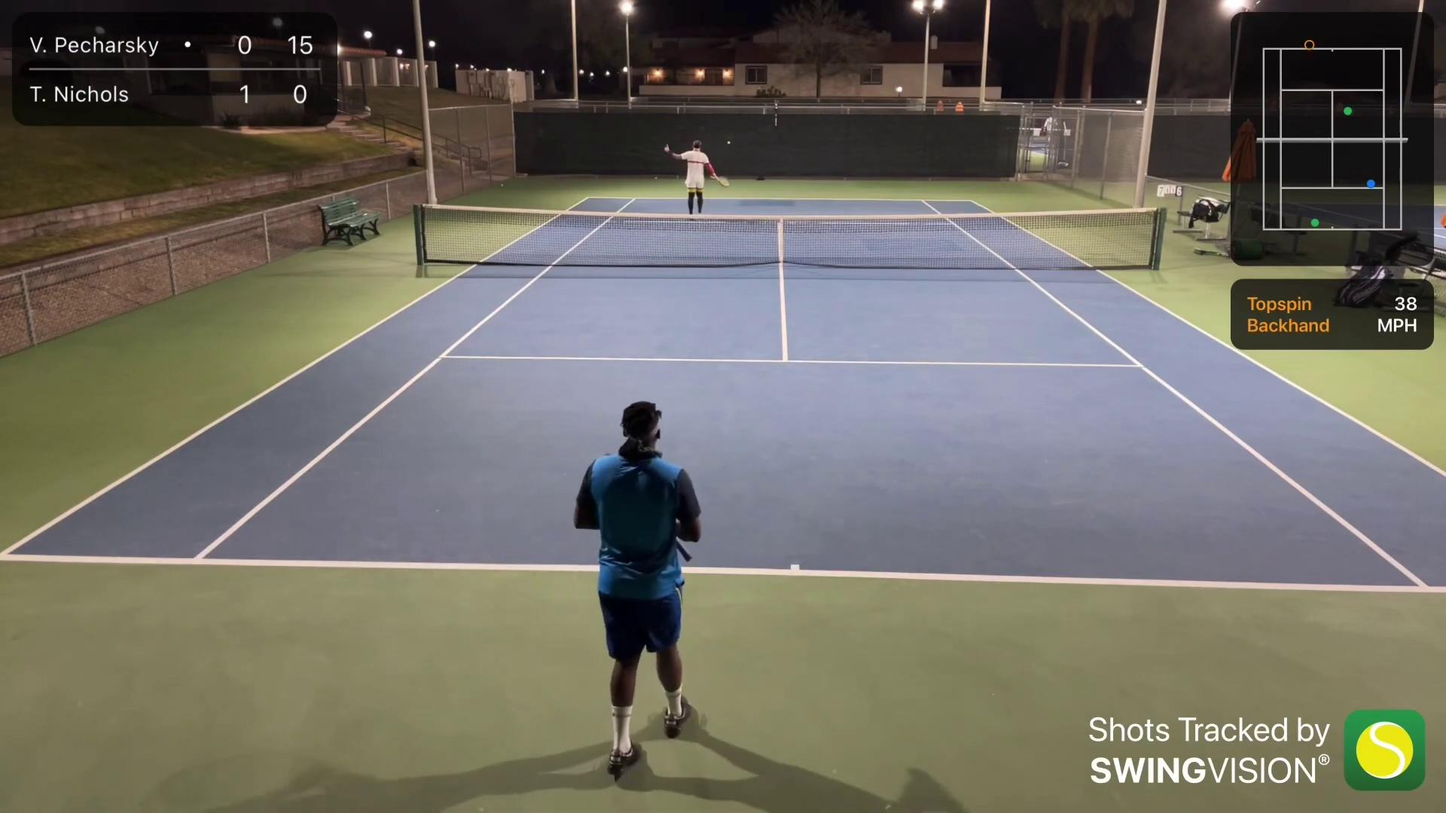ball: (726, 138, 735, 145), (497, 182, 506, 187), (653, 175, 659, 180)
